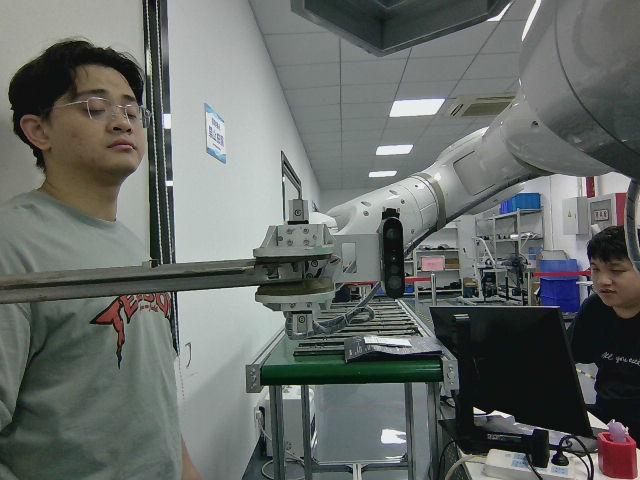up: (0, 254, 308, 304)
